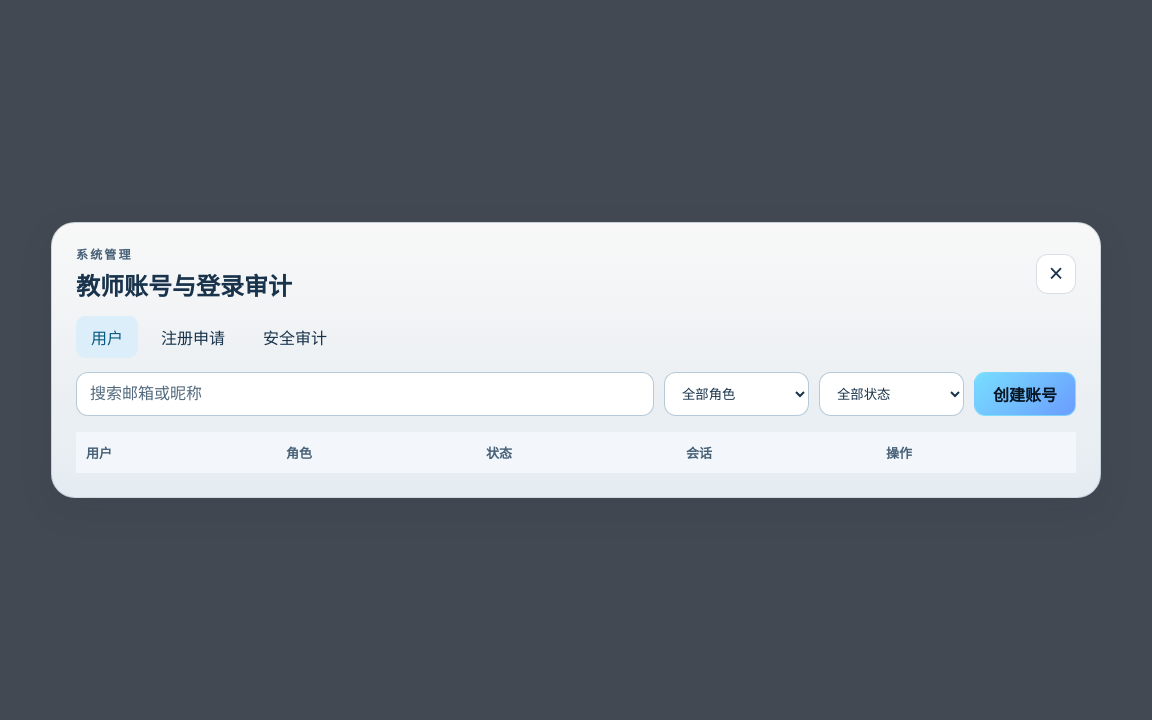
UserManagementPanel › rejects a request after confirmation
The image size is (1152, 720).
Click the button "注册申请": (193, 337) [146,316,240,358]
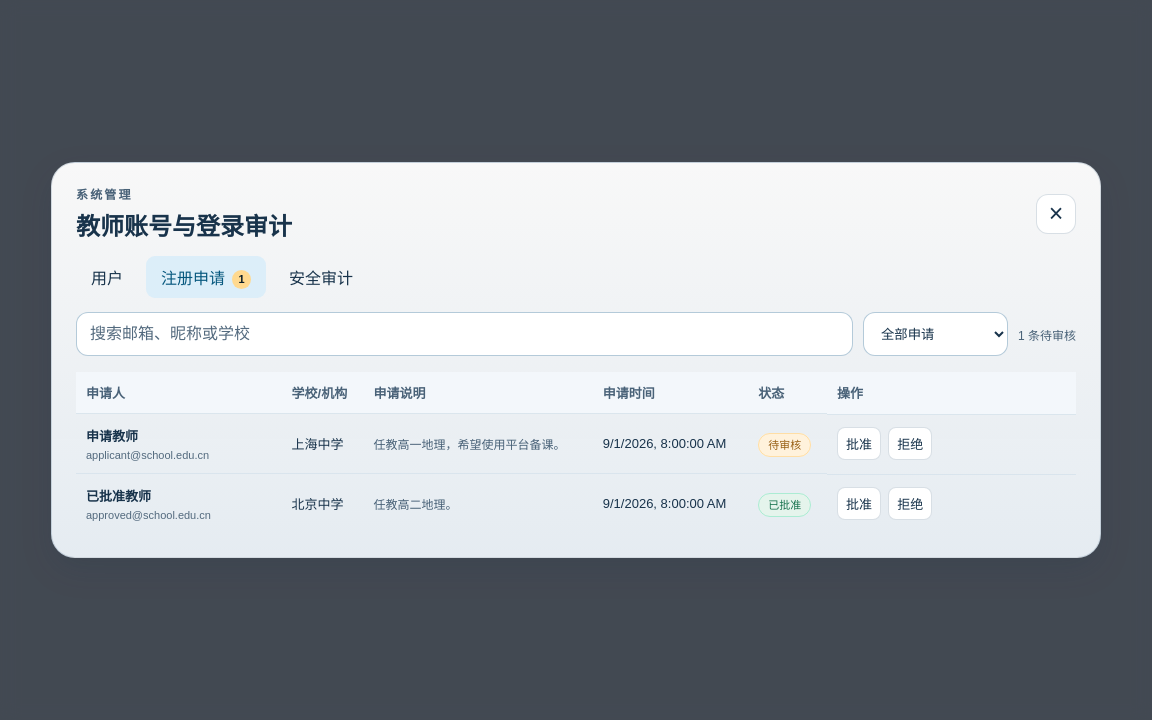
Click the button "拒绝" in the row of "申请教师": (910, 443) [888,426,932,460]
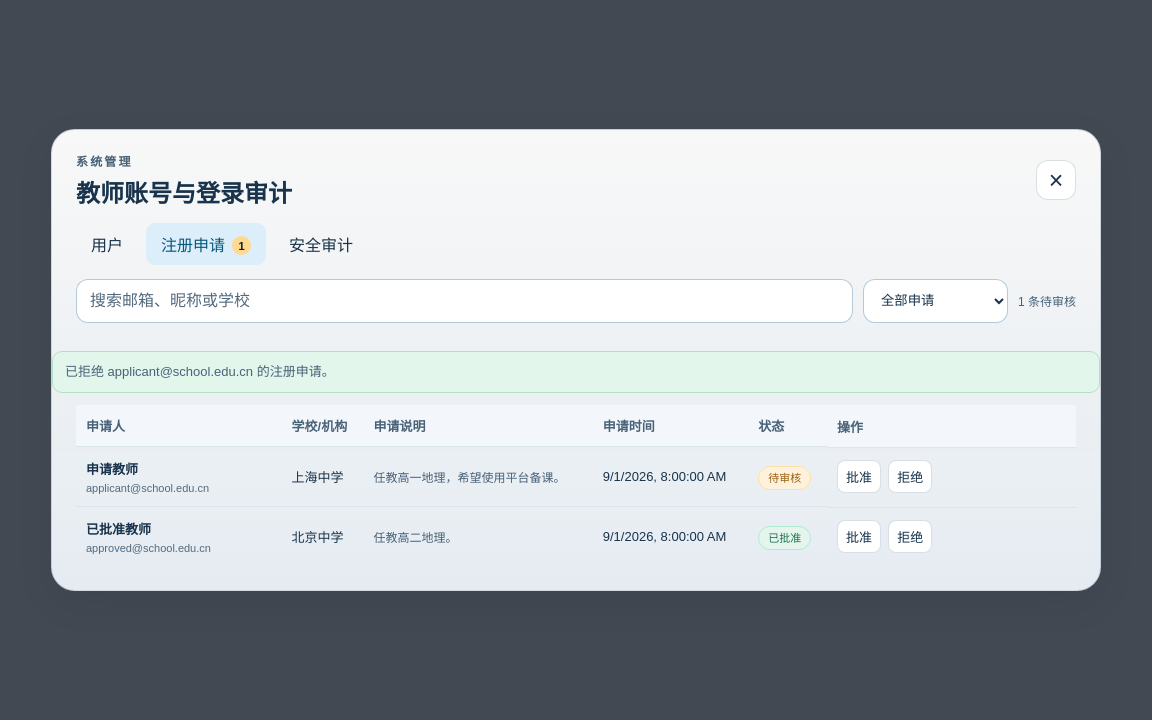
Expected: the text "已拒绝 applicant@school.edu.cn 的注册申请。" is shown, [52,351,1100,393]
